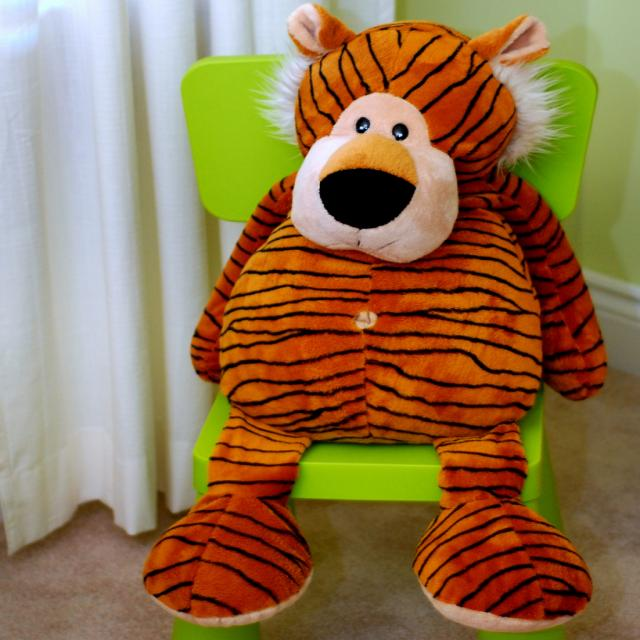Tiger: (142, 3, 608, 632)
